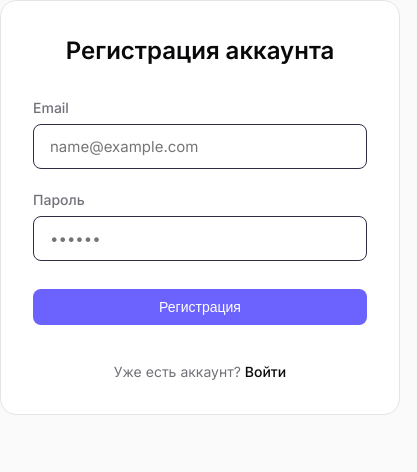
Test case: Компонент RegisterForm › показывает ошибку с бэкенда, если такой email уже занят
Type "existing@mail.ru" into the field labelled "Email" at (200, 146), box [33,124,367,169]
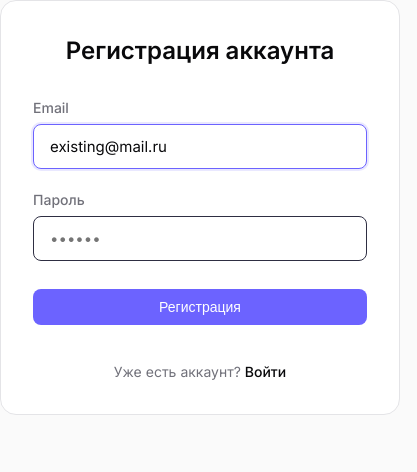
Type "123456" into the password field labelled "Пароль" at (200, 238), box [33,216,367,261]
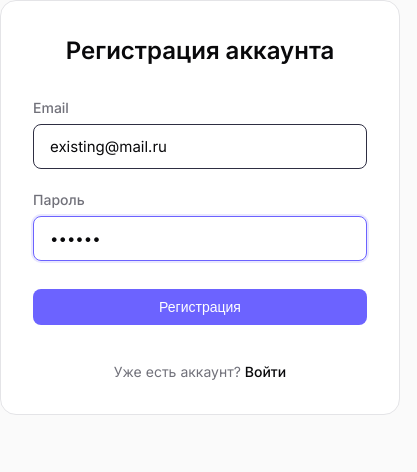
Click the button "Регистрация" at (200, 307), box [33,289,367,325]
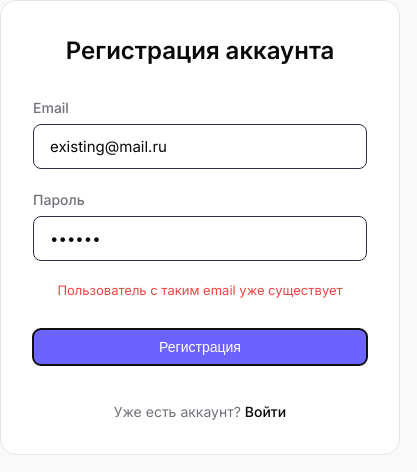
Now the text "Пользователь с таким email уже существует" is shown, box [33,281,367,300]
